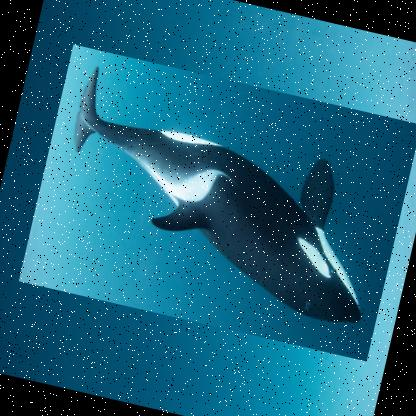killer_whale: (16, 43, 415, 362)
